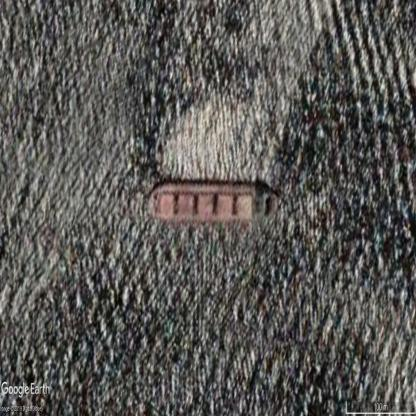ship: (148, 184, 278, 222)
